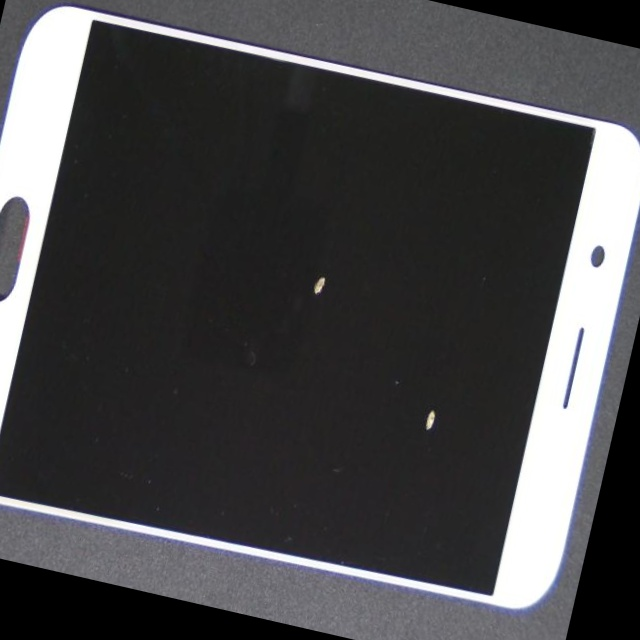stain: (139, 222, 639, 640), (135, 97, 547, 447)
